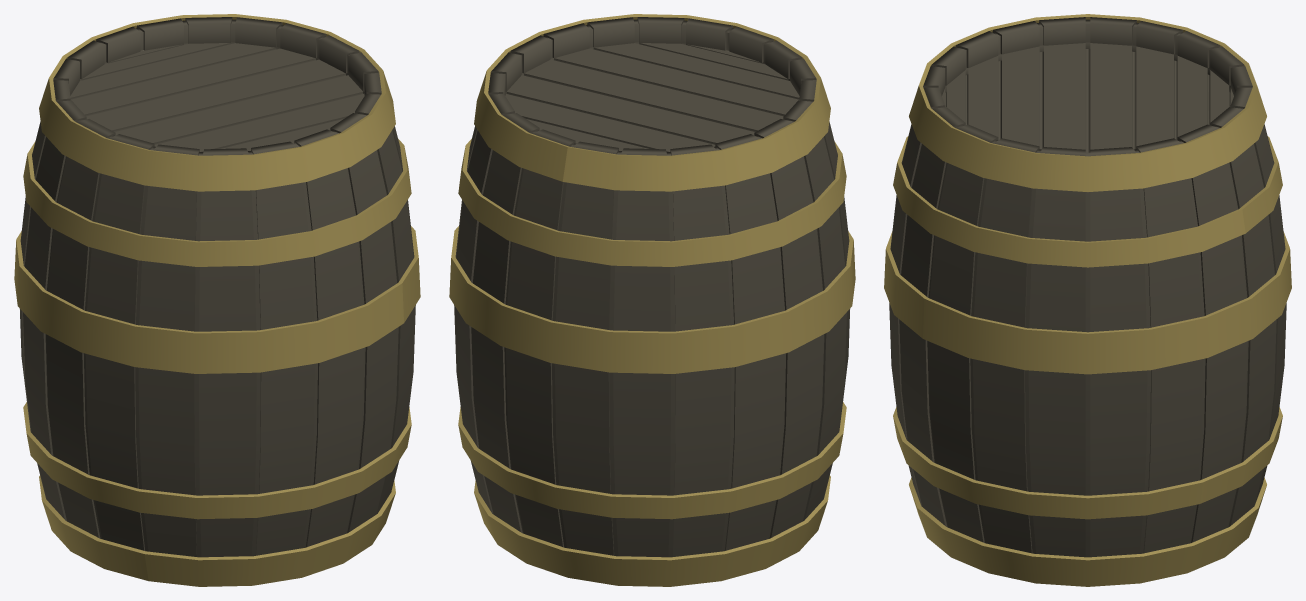
File: Barrel_Low.fbx
3 views of the same model, side by side, from view 1: azimuth 30°, elevation 25°; view 2: azimuth 150°, elevation 25°; view 3: azimuth 270°, elevation 25° (orthographic).
Visible parts, largest first — view 1: Barrel_Planks_Wood_Cathedral_Low, Barrel_Hoops_Metal_Cathedral_Low; view 2: Barrel_Planks_Wood_Cathedral_Low, Barrel_Hoops_Metal_Cathedral_Low; view 3: Barrel_Planks_Wood_Cathedral_Low, Barrel_Hoops_Metal_Cathedral_Low.
Part boxes in pixels (x1,y1,x2,y2): Barrel_Planks_Wood_Cathedral_Low: (19, 17, 415, 557); Barrel_Hoops_Metal_Cathedral_Low: (14, 14, 420, 586); Barrel_Planks_Wood_Cathedral_Low: (454, 17, 850, 557); Barrel_Hoops_Metal_Cathedral_Low: (449, 14, 855, 586); Barrel_Planks_Wood_Cathedral_Low: (889, 17, 1286, 557); Barrel_Hoops_Metal_Cathedral_Low: (884, 14, 1291, 586).
Size of the model in its own units: 1.89 by 2.2 by 1.89.
